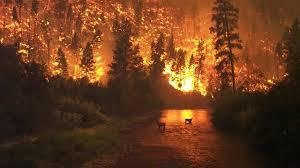fire: (7, 0, 218, 88)
